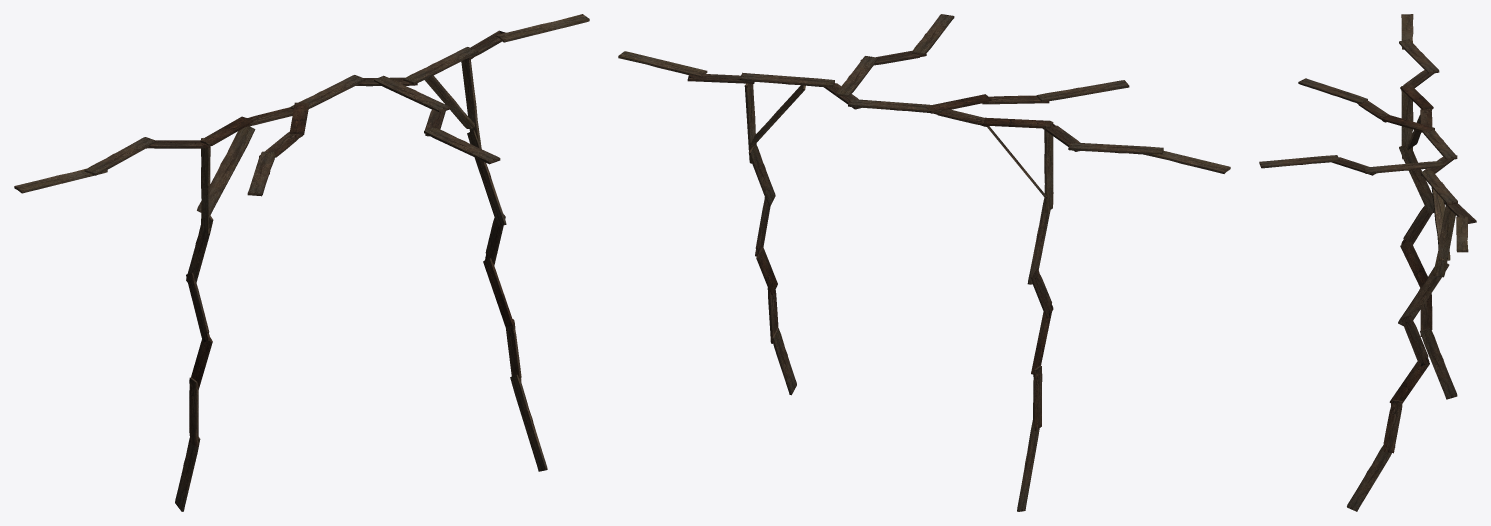
Rendered from woodwalkway.glb.
3 views of the same model, side by side, from view 1: azimuth 30°, elevation 25°; view 2: azimuth 150°, elevation 25°; view 3: azimuth 270°, elevation 25° (orthographic). The views are drawn at different scales.
Parts seen in each view (by area): view 1: wooden_plank_2.010, wooden_plank_2.009, wooden_plank_1.001, wooden_plank_1.002, wooden_plank_2.008, wooden_plank_2.003, wooden_plank_2.002, wooden_plank_2.004, wooden_plank_2, wooden_plank_2.006, wooden_plank_1, wooden_plank_1.003 (+6 smaller); view 2: wooden_plank_2, wooden_plank_2.002, wooden_plank_2.005, wooden_plank_2.006, wooden_plank_1.002, wooden_plank_1.001, wooden_plank_2.001, wooden_plank_2.009; view 3: wooden_plank_2.006, wooden_plank_2.009, wooden_plank_1.003, wooden_plank_2.007, wooden_plank_2.008, wooden_plank_5.003, wooden_plank_3.005, wooden_plank_2.003, wooden_plank_2.004, wooden_plank_2.005, wooden_plank_4.003, wooden_plank_4.002 (+13 smaller).
Boxes of the visible parts, x1,y1,x2,y2 form: wooden_plank_2.010: (197,126,255,214); wooden_plank_2.009: (510,374,547,471); wooden_plank_1.001: (496,14,589,42); wooden_plank_1.002: (201,138,210,233); wooden_plank_2.008: (467,130,506,226); wooden_plank_2.003: (424,127,500,164); wooden_plank_2.002: (403,47,478,84); wooden_plank_2.004: (374,75,450,112); wooden_plank_2: (84,137,156,175); wooden_plank_2.006: (175,437,200,511); wooden_plank_1: (14,168,107,193); wooden_plank_1.003: (461,59,481,147); wooden_plank_2: (1068,142,1163,154); wooden_plank_2.002: (739,72,834,87); wooden_plank_2.005: (1036,80,1129,102); wooden_plank_2.006: (1017,420,1039,511); wooden_plank_1.002: (1044,121,1053,212); wooden_plank_1.001: (618,51,707,76); wooden_plank_2.001: (848,99,941,113); wooden_plank_2.009: (771,328,796,395); wooden_plank_2.006: (1420,328,1457,399); wooden_plank_2.009: (1347,445,1395,511); wooden_plank_1.003: (1433,205,1455,277); wooden_plank_2.007: (1399,143,1434,214); wooden_plank_2.008: (1398,263,1449,325); wooden_plank_5.003: (1383,399,1402,453); wooden_plank_3.005: (1400,314,1429,366); wooden_plank_2.003: (1259,155,1339,168); wooden_plank_2.004: (1363,161,1444,173); wooden_plank_2.005: (1298,78,1367,103); wooden_plank_4.003: (1389,361,1429,402); wooden_plank_4.002: (1400,241,1427,287).
Bounding box in the file's own units: 8.5 × 5.24 × 3.3.
Materials: 14 (14 with a texture image).
